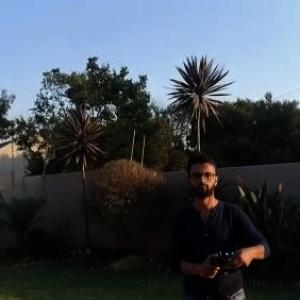follow: (164, 144, 274, 299)
